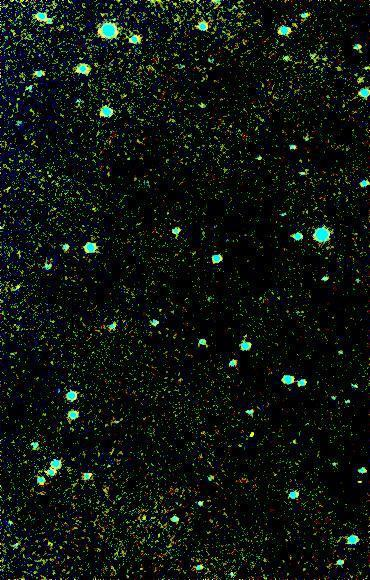star: (234, 419, 264, 449)
